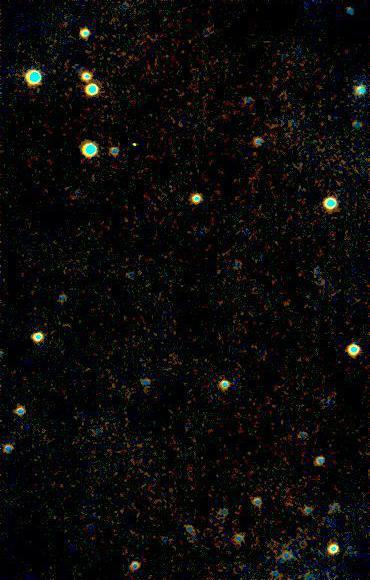star: (271, 289, 301, 319)
